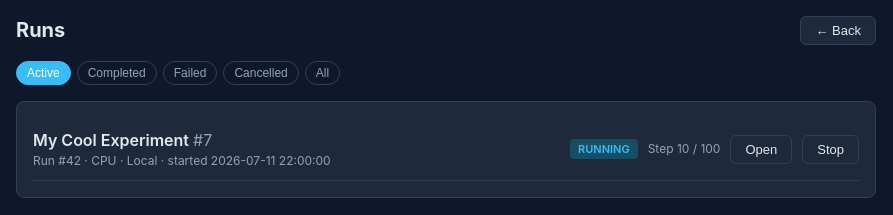
it: OpenRunsPage › stops a run and removes it from the list on click
This screenshot has width=893, height=215.
Expected: the text "My Cool Experiment" is shown, top-left (33, 130), bottom-right (189, 150)
Click the button "Stop": (831, 149) top-left (802, 134), bottom-right (859, 164)
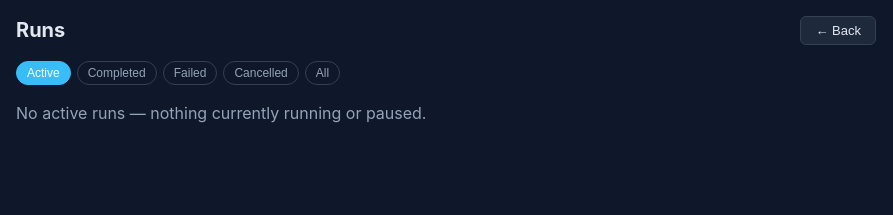
Expected: the text "No active runs — nothing currently running or paused." is shown, top-left (16, 103), bottom-right (426, 123)
